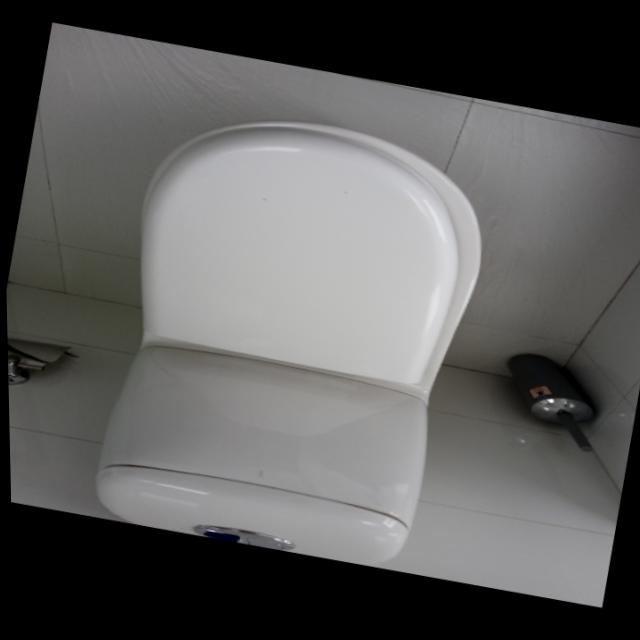toilet: (78, 91, 508, 583)
